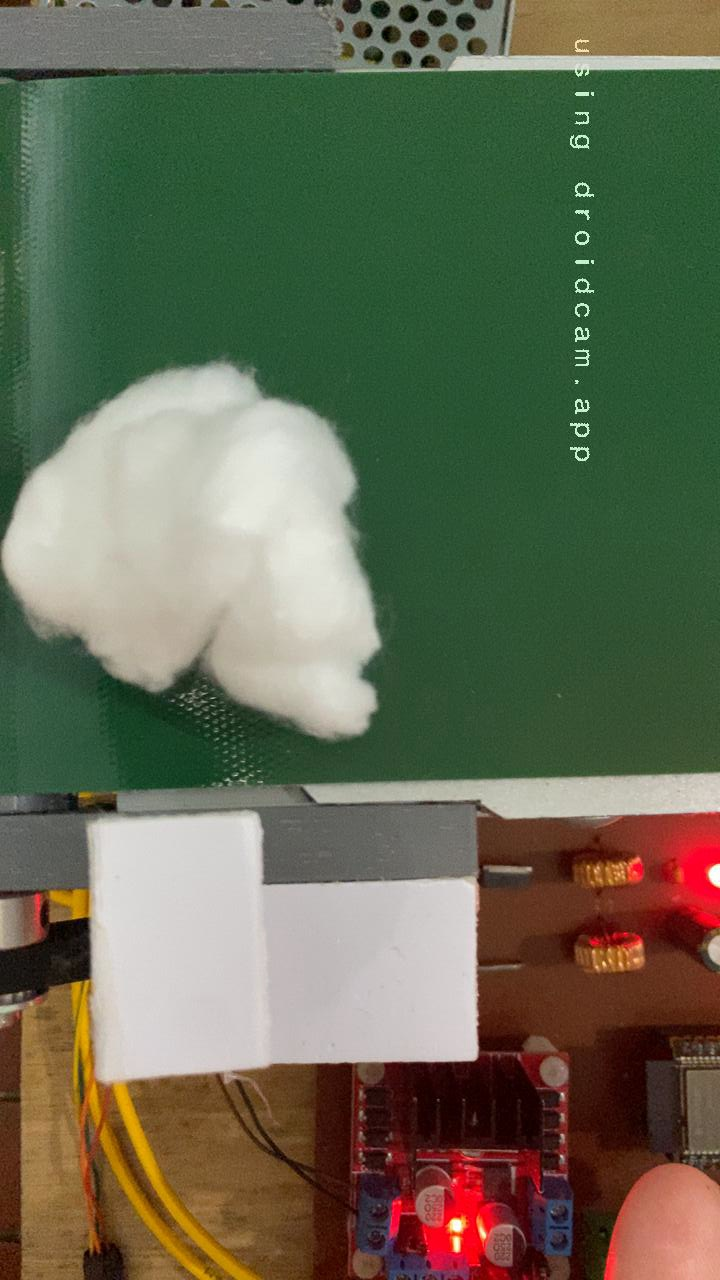cotton: (0, 355, 390, 745)
